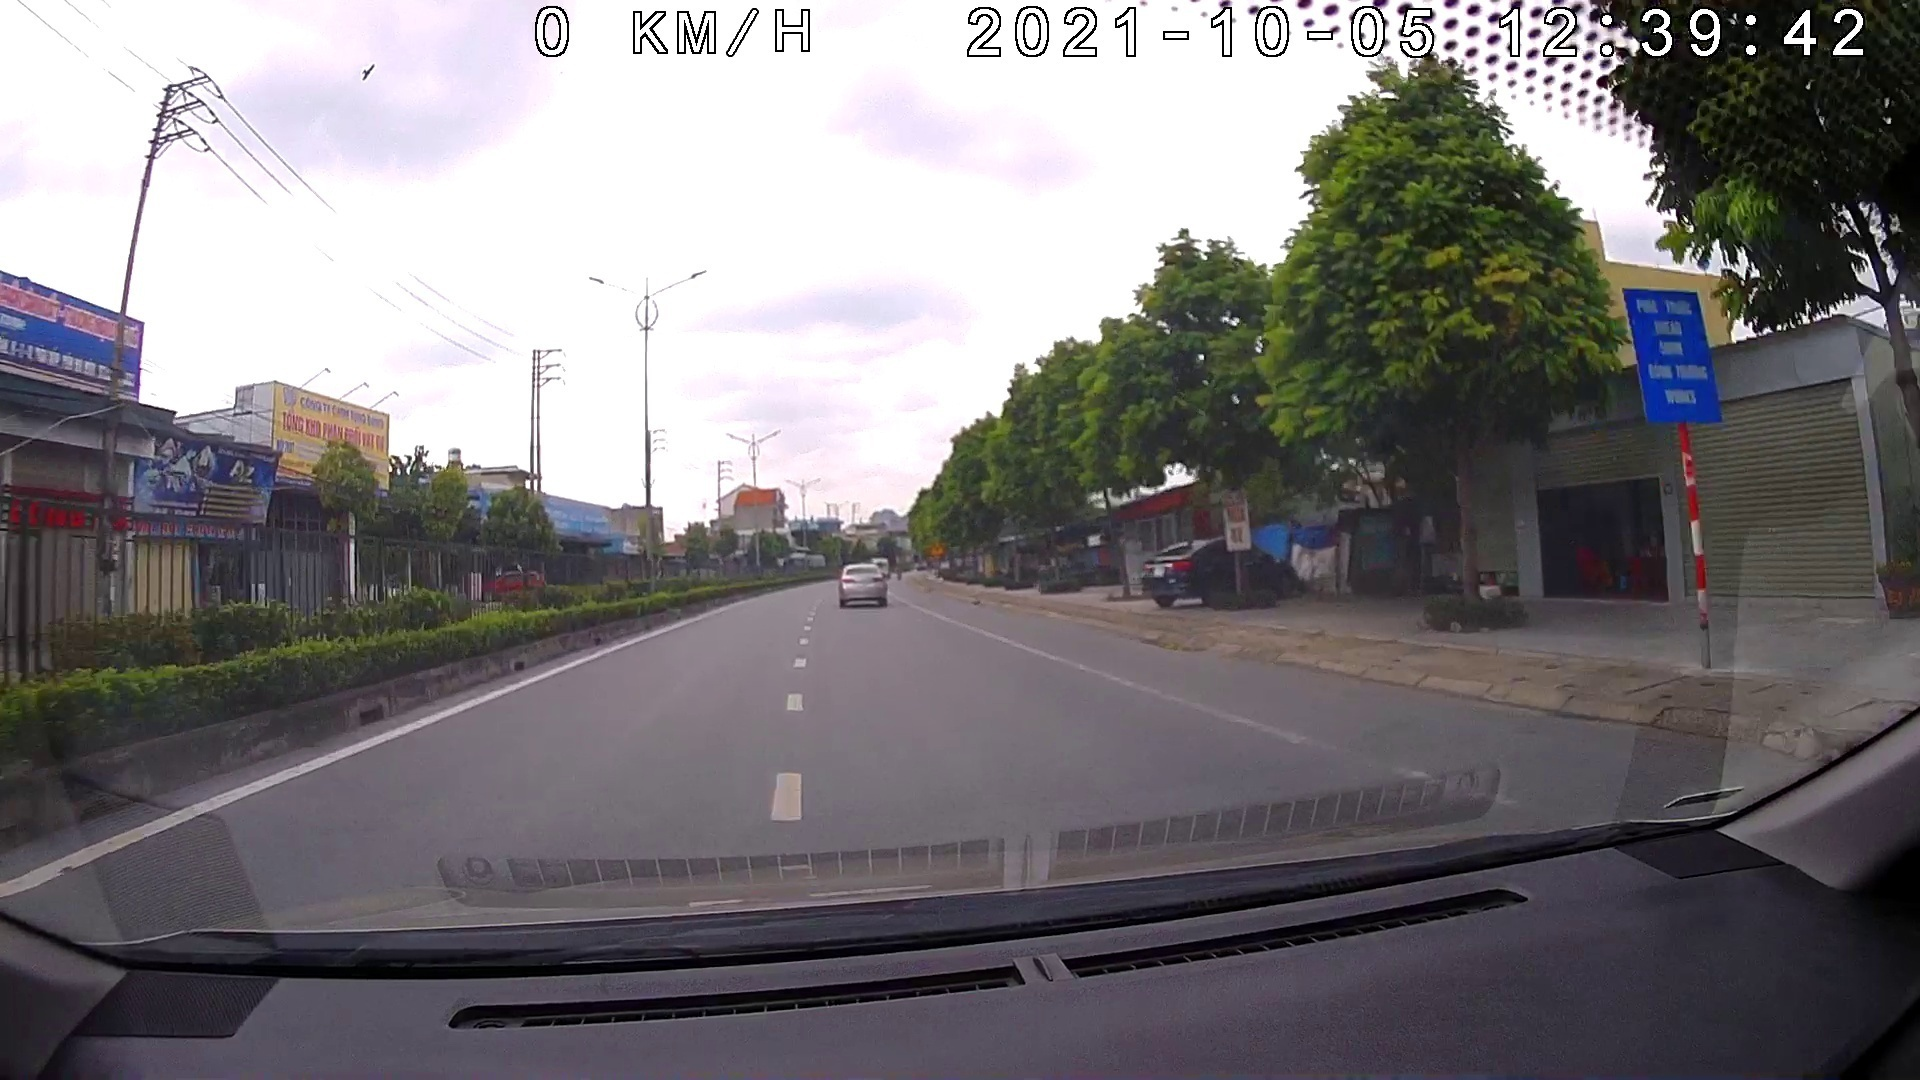Giao nhau voi duong khong uu tien: (924, 541, 945, 558)
